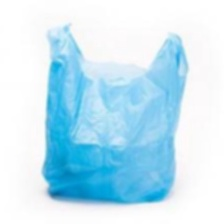plastic_bag: (31, 12, 192, 209)
